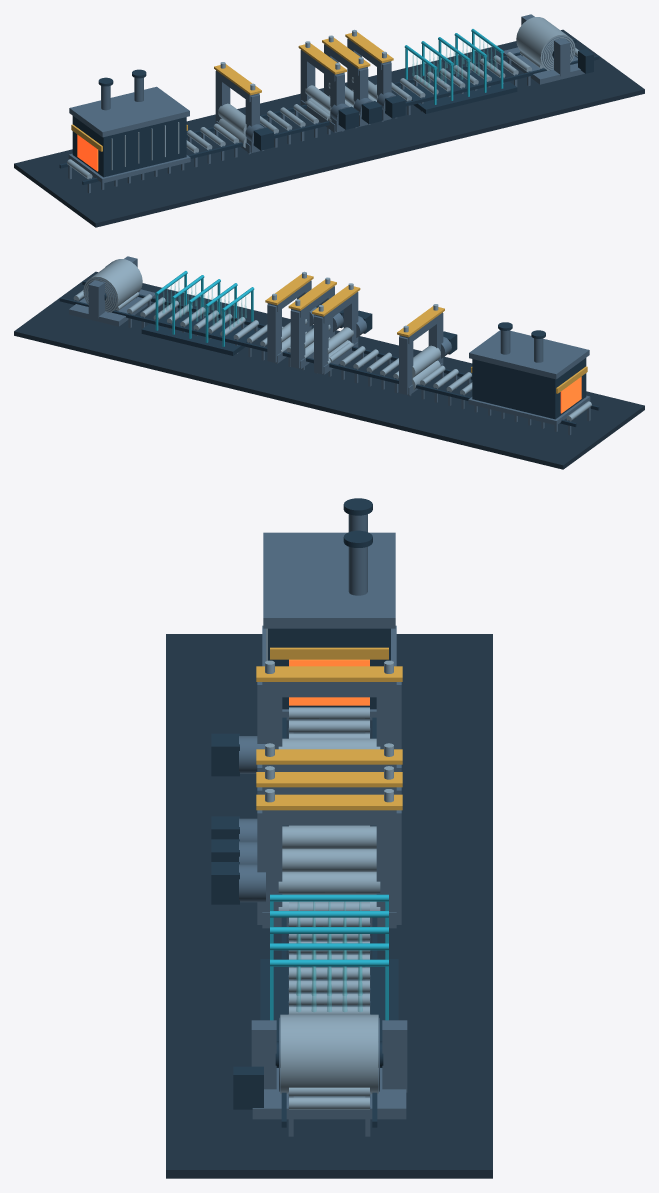
File: hot-rolling-education.glb
The picture shows the model from 3 angles, top to bottom: view 1: azimuth 30°, elevation 25°; view 2: azimuth 150°, elevation 25°; view 3: azimuth 270°, elevation 25°; orthographic projection. The views are drawn at different scales.
Visible parts, largest first — view 1: Hot_rolling_education_model, 가열로, 사상압연기, 냉각 구간, 권취기, 조압연기; view 2: Hot_rolling_education_model, 가열로, 사상압연기, 냉각 구간, 권취기, 조압연기; view 3: Hot_rolling_education_model, 사상압연기, 가열로, 권취기, 조압연기, 냉각 구간.
Boxes of the visible parts, x1,y1,x2,y2 form: Hot_rolling_education_model: (14, 29, 644, 227); 가열로: (68, 69, 190, 183); 사상압연기: (298, 29, 405, 132); 냉각 구간: (398, 29, 517, 113); 권취기: (503, 14, 593, 84); 조압연기: (214, 62, 273, 153); Hot_rolling_education_model: (14, 271, 644, 469); 가열로: (468, 322, 590, 425); 사상압연기: (265, 271, 372, 374); 냉각 구간: (141, 271, 260, 355); 권취기: (69, 256, 155, 326); 조압연기: (397, 304, 457, 395); Hot_rolling_education_model: (166, 634, 492, 1178); 사상압연기: (211, 743, 402, 928); 가열로: (262, 498, 396, 720); 권취기: (233, 1014, 407, 1119); 조압연기: (211, 660, 402, 776); 냉각 구간: (260, 894, 398, 1041).
Bounding box in the file's own units: 33 × 5.6 × 8.5.
